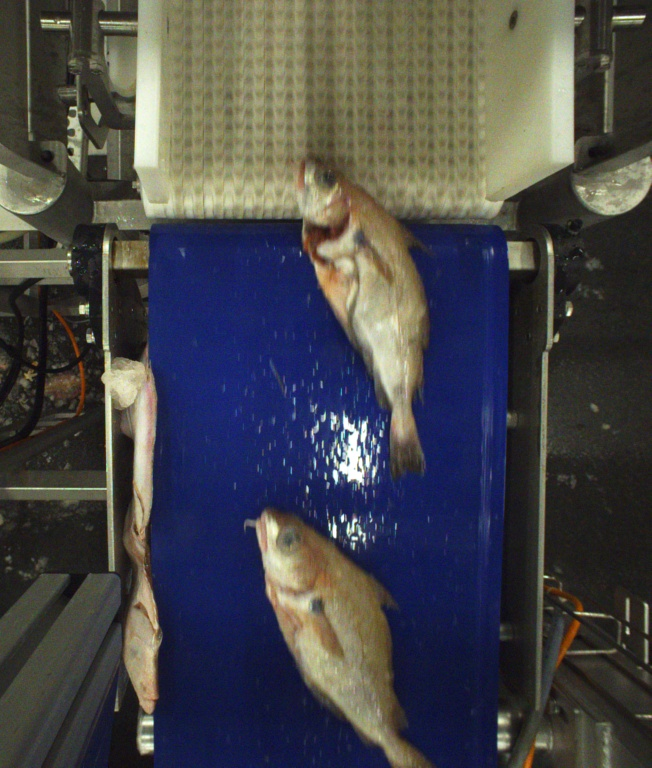BIB: (289, 159, 428, 484)
